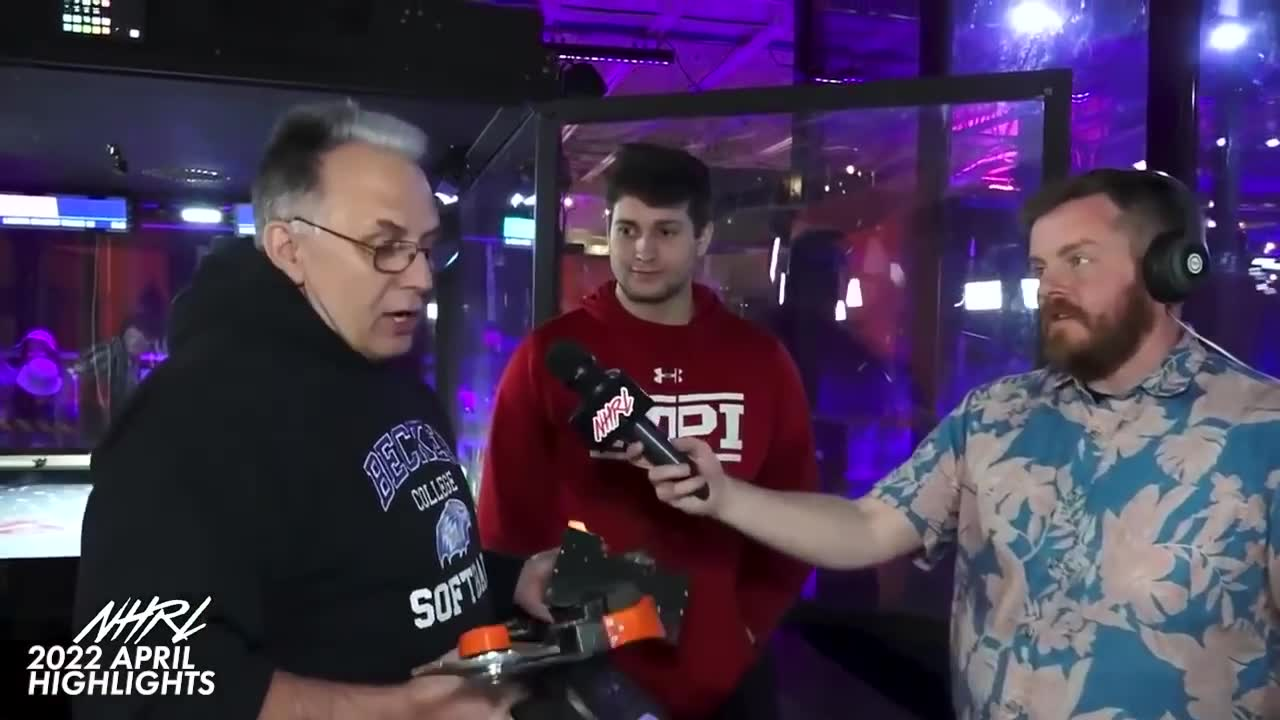combatbot: (413, 601, 665, 683)
